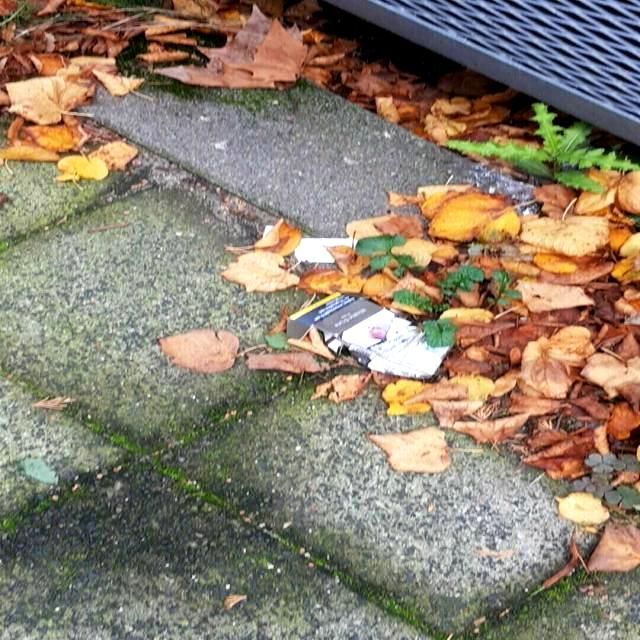Paper: (283, 290, 455, 380)
